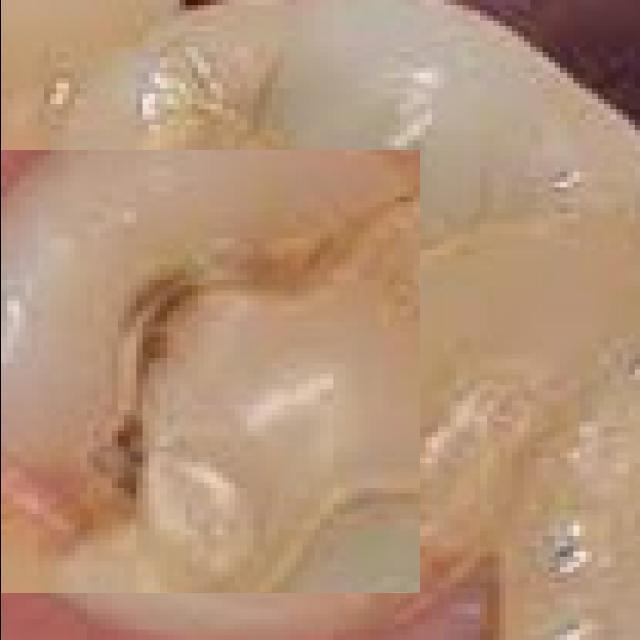decay: (0, 150, 419, 593)
